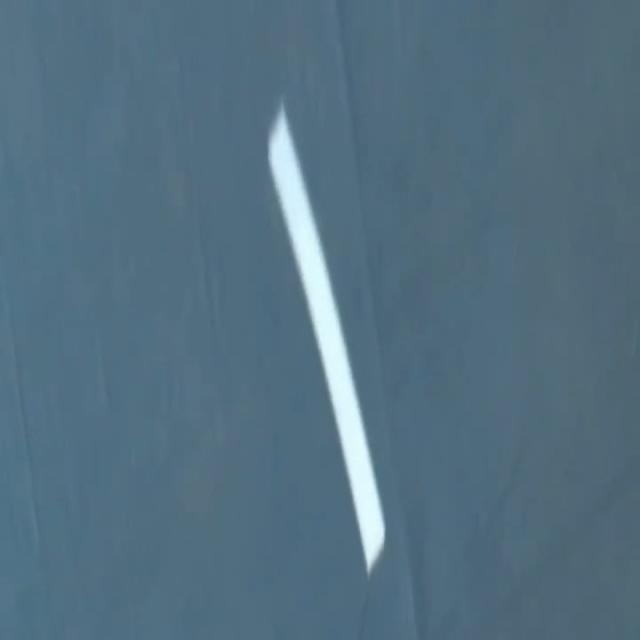center: (269, 104, 384, 573)
